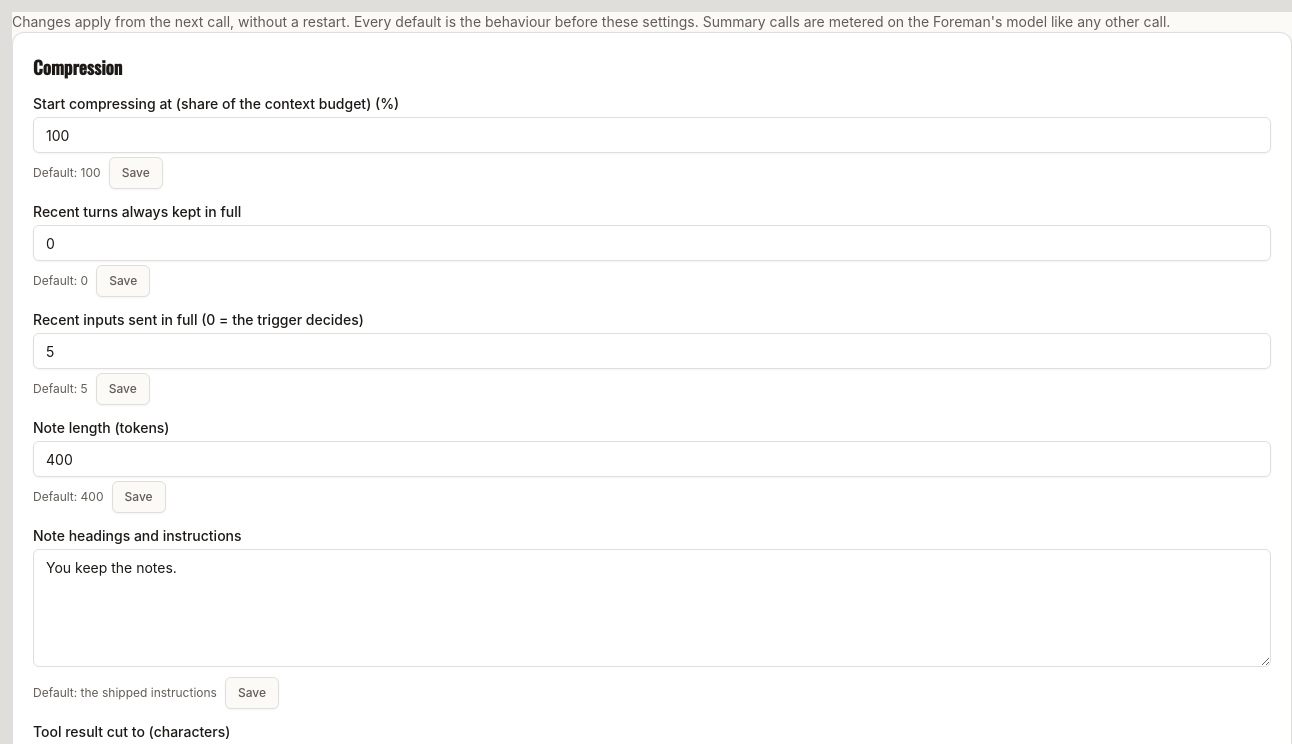
Test: an out-of-range value shows the refusal
Replace the text in the number field labelled "Recent turns always kept in full" with "50" at (652, 243), box [33,225,1271,261]
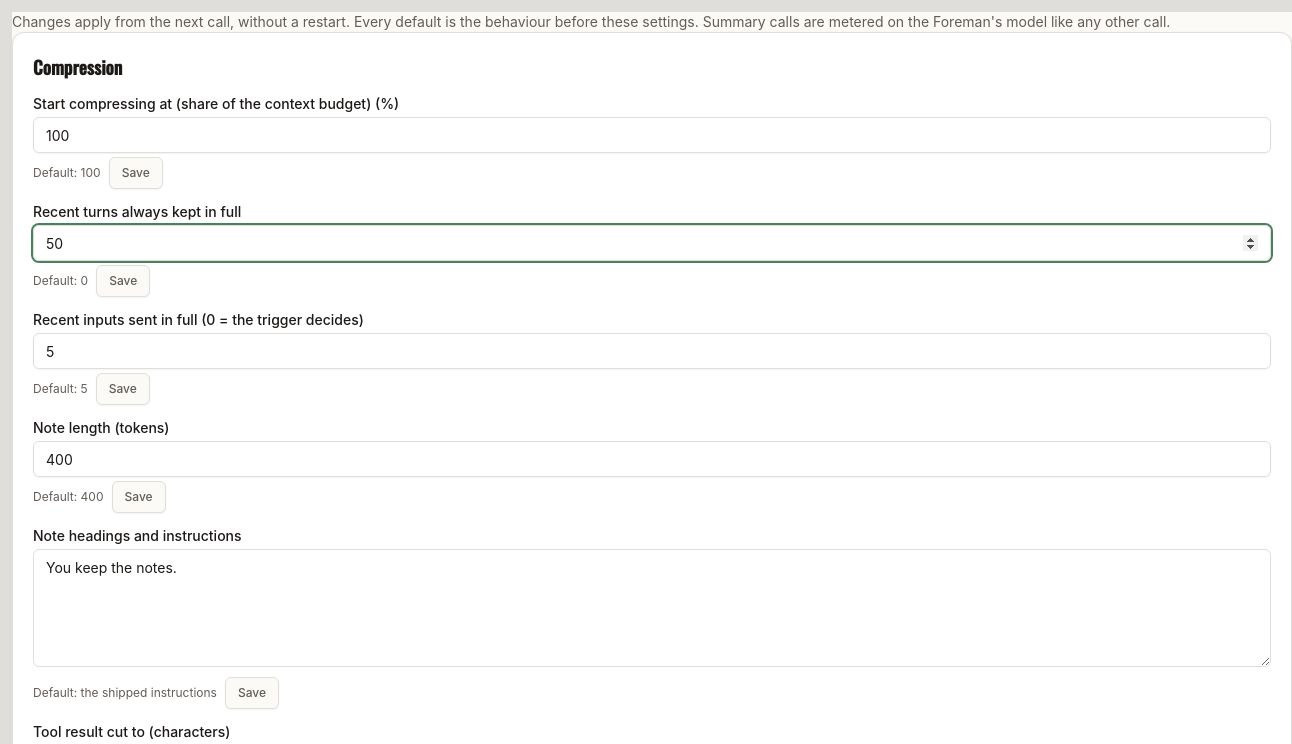
Click the button "Save" below "Recent turns always kept in full" at (123, 281), box [96,265,150,297]
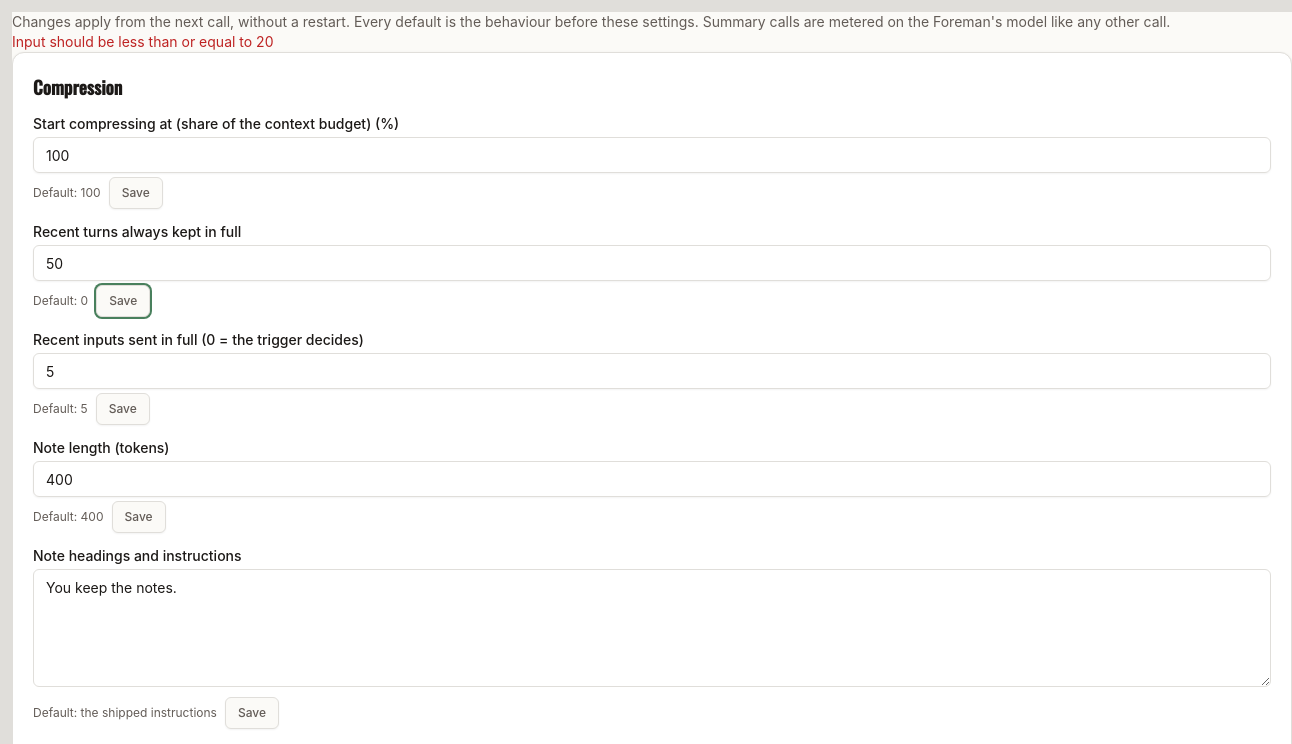
expect the text "Input should be less than or equal to 20" is shown: met, box [12,33,274,50]
